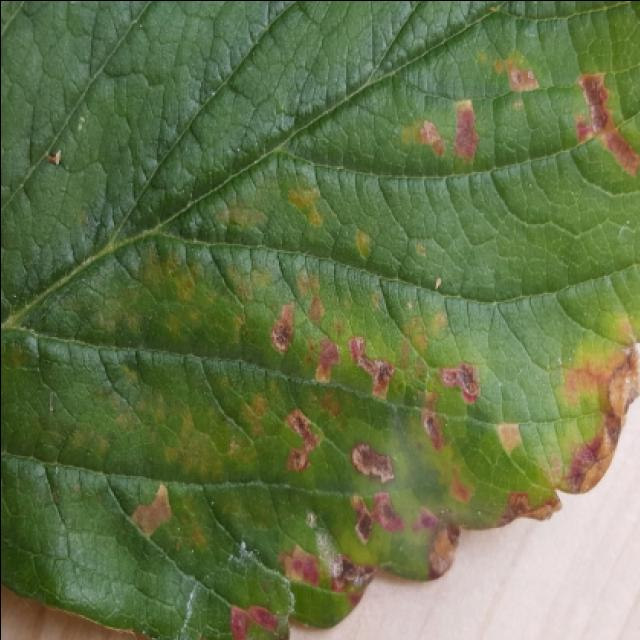Angular Leafspot: (74, 175, 640, 640), (378, 42, 640, 186)
